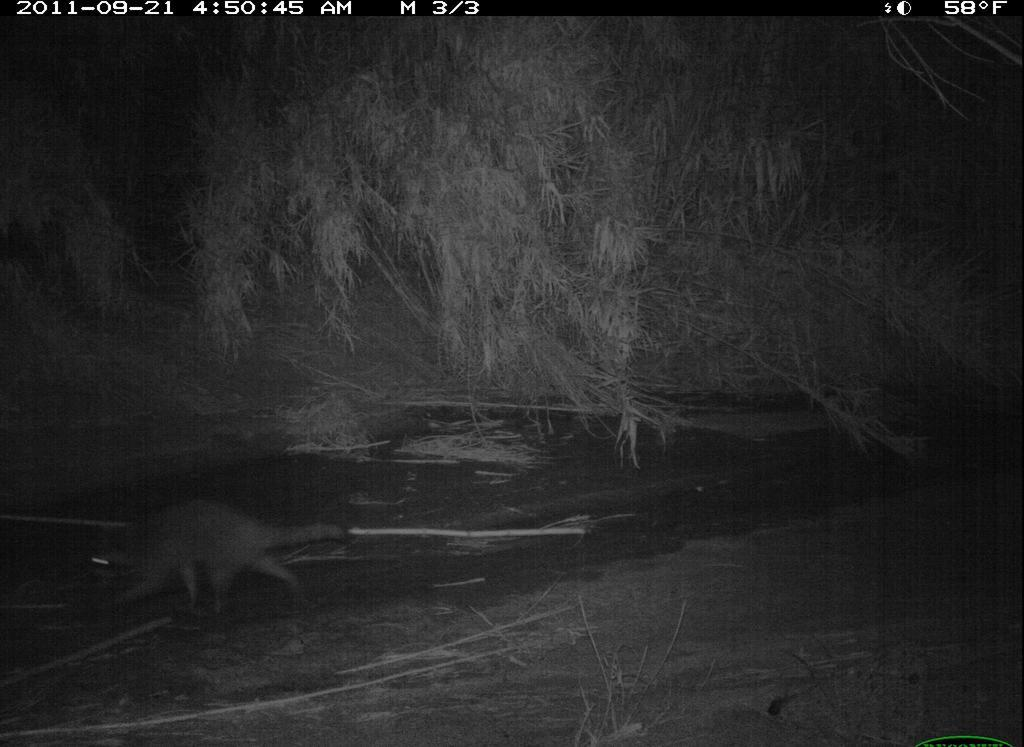raccoon: (75, 496, 361, 641)
